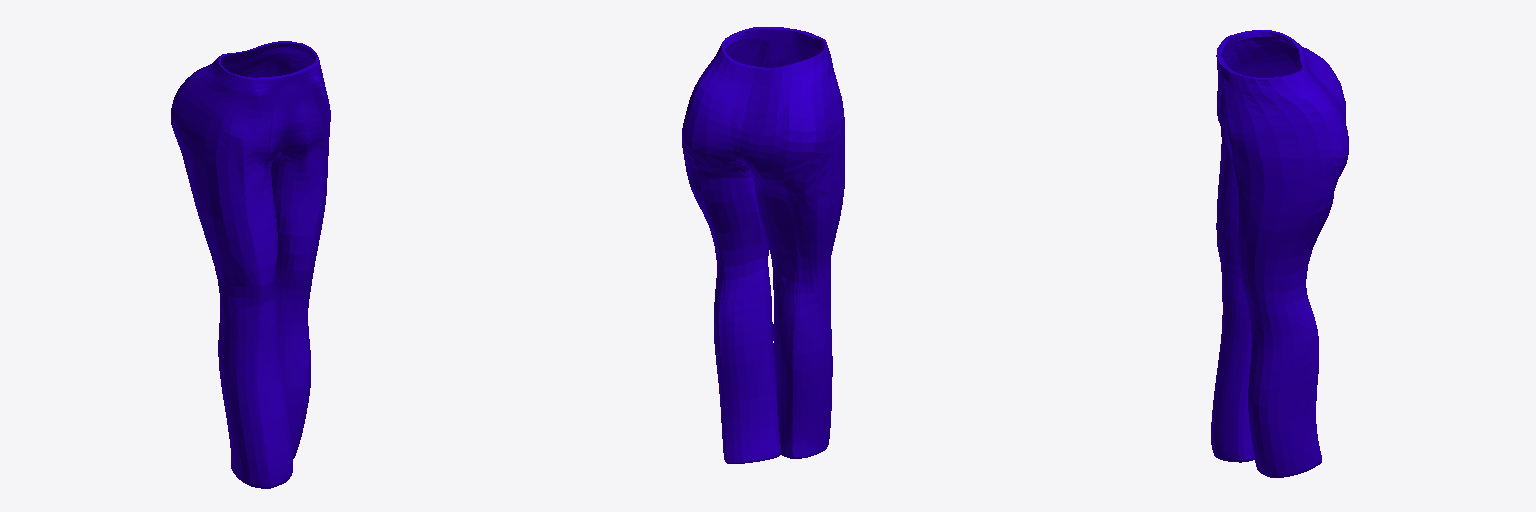
The model's file is geziku2.obj.
3 views of the same model, side by side, from view 1: azimuth 30°, elevation 25°; view 2: azimuth 150°, elevation 25°; view 3: azimuth 270°, elevation 25° (orthographic).
Visible parts, largest first — view 1: geziku; view 2: geziku; view 3: geziku.
Boxes of the visible parts, <box> form: geziku: <box>171,41,330,488</box>; geziku: <box>682,27,844,463</box>; geziku: <box>1211,30,1348,477</box>.
Size of the model in its own units: 1.99 by 5.83 by 1.77.